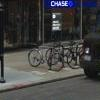Bicycle: (23, 40, 85, 73)
